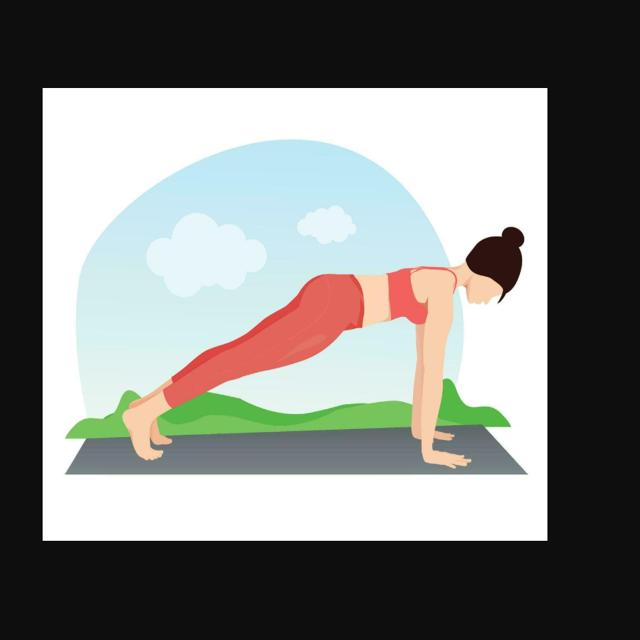Plank_Pose: (103, 219, 534, 486)
